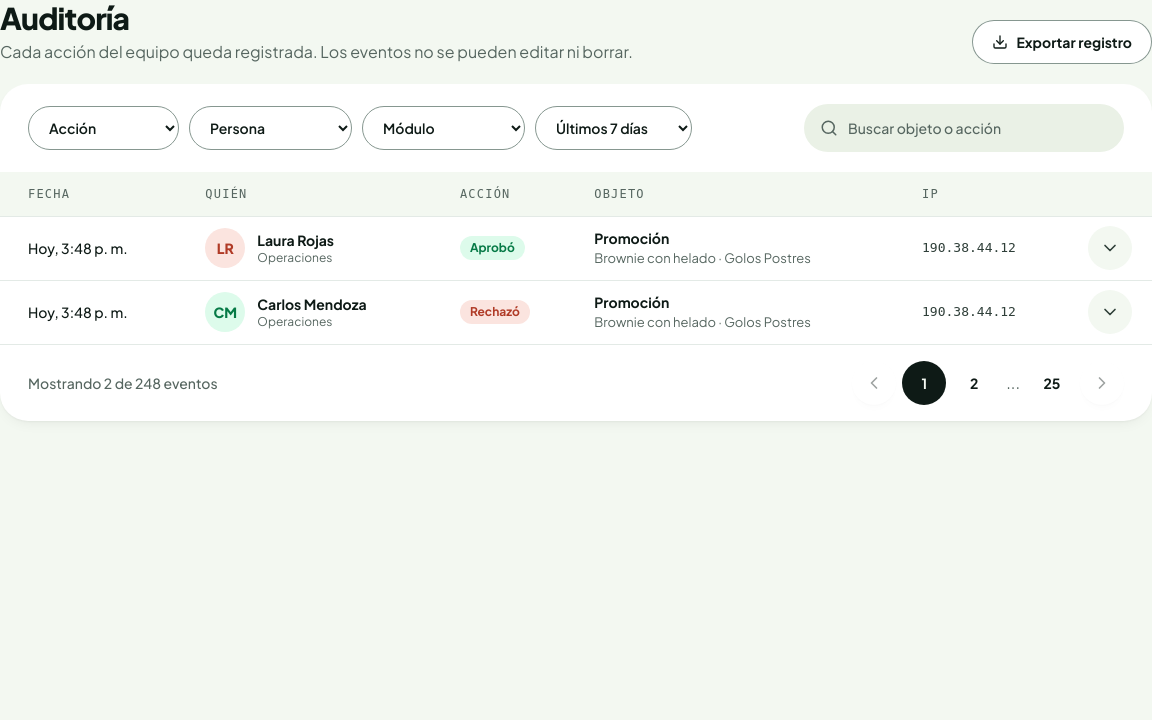
Test: B16 · pantalla › abrir un evento muestra el antes y despues, la version y el dispositivo
The image size is (1152, 720).
Expected: the text "Mostrando 2 de 248 eventos" is shown, [28,373,218,393]
Step 1. Click the button named "Ver detalle del evento" → point(1110, 248), box [1088,226,1132,270]
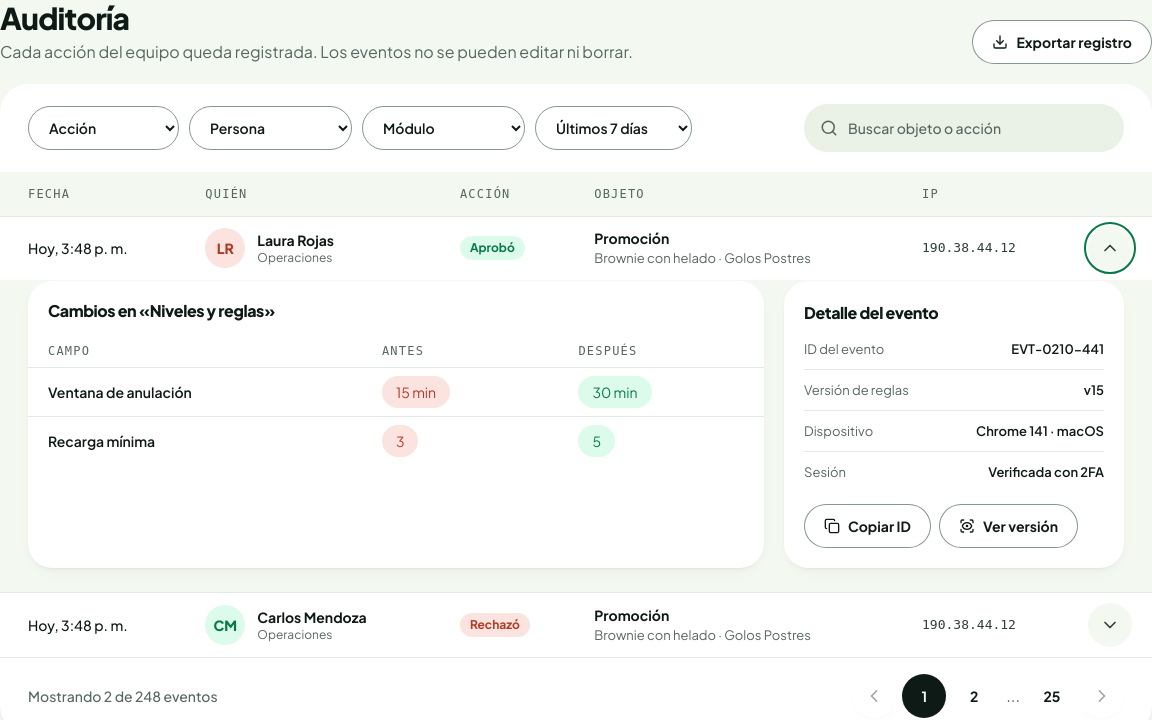
Result: the column heading "Ventana de anulación" is shown at [28,368,362,416]
Result: the text "15 min" is shown at [382,376,450,408]
Result: the text "30 min" is shown at [578,376,652,408]
